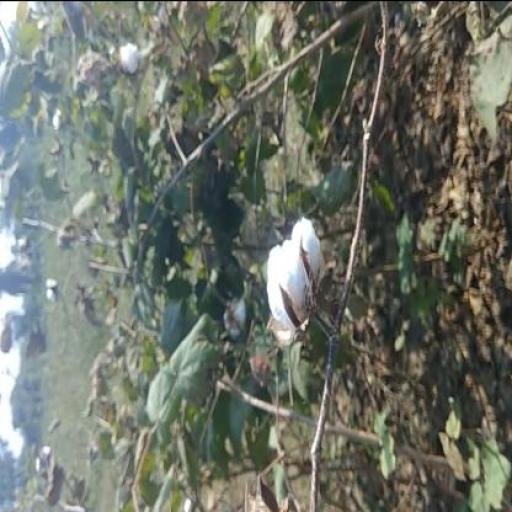cotton_ready: (259, 198, 345, 361)
